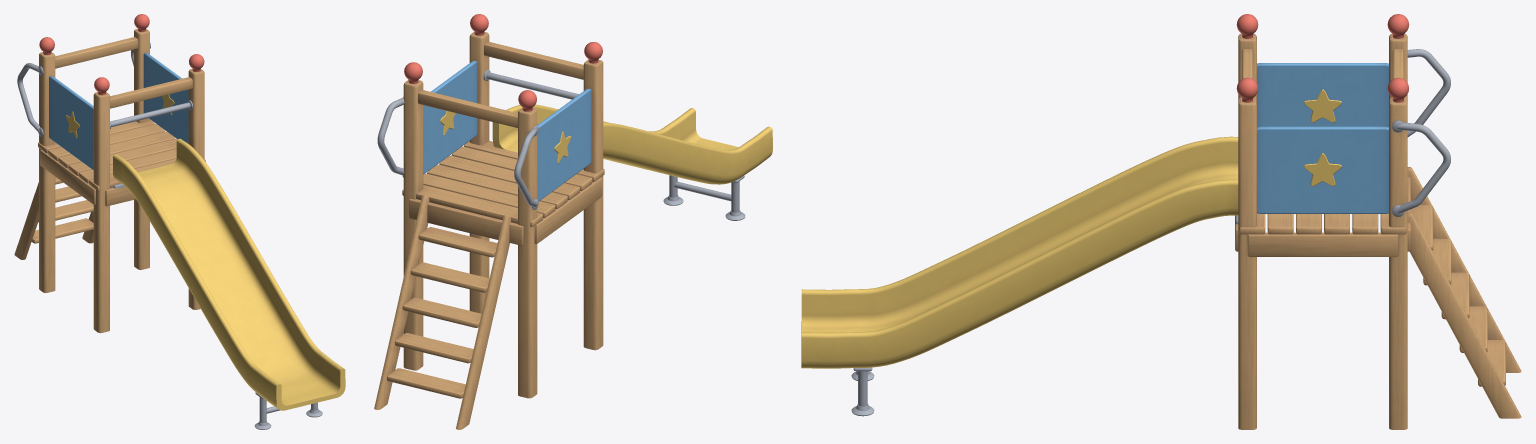
Rendered from playground-slide.glb.
3 renders of one model, left to right at view 1: azimuth 30°, elevation 25°; view 2: azimuth 150°, elevation 25°; view 3: azimuth 270°, elevation 25°, orthographic. The views are drawn at different scales.
Visible parts, largest first — view 1: playground-slide_body; view 2: playground-slide_body; view 3: playground-slide_body.
Boxes of the visible parts, x1,y1,x2,y2 form: playground-slide_body: (14,14,345,429); playground-slide_body: (374,14,772,429); playground-slide_body: (801,14,1521,429).
Size of the model in its own units: 1.01 by 2.06 by 3.87.
1 material, 1 textured.
